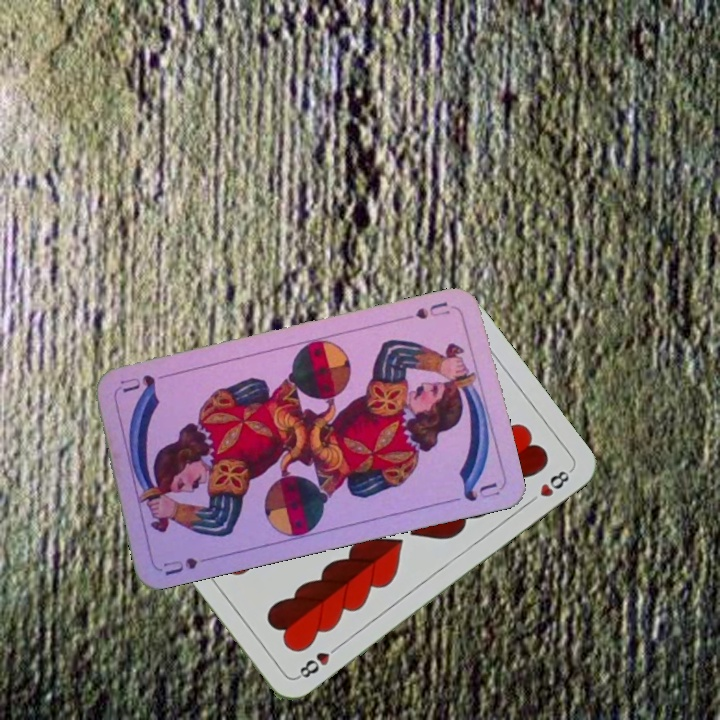H8: (292, 640, 343, 682)
SU: (159, 552, 218, 578), (399, 298, 453, 323)
